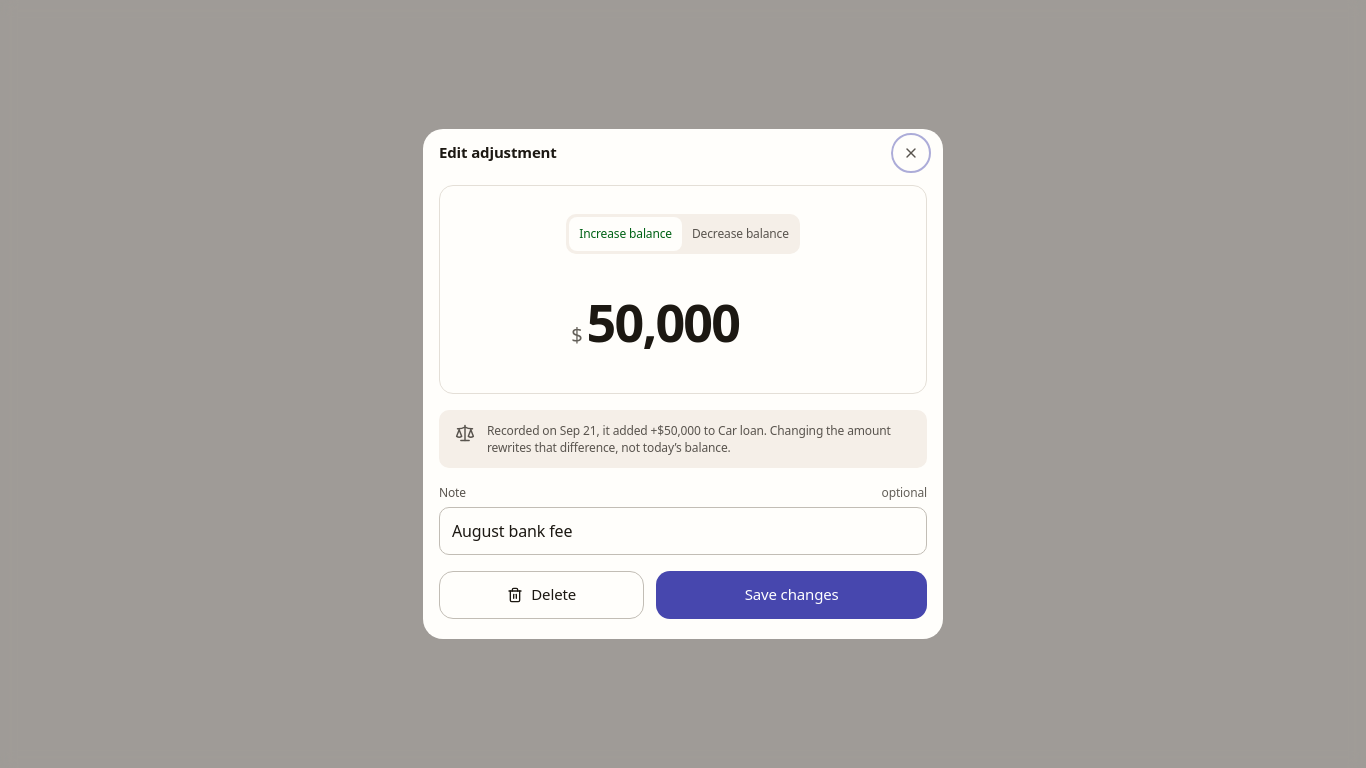
Test: AdjustBalanceSheet, editing one › refuses to push a loan past zero from the editing sheet
Expected: the text "Recorded on" is shown, [487, 422, 891, 456]
Clear the field named "Amount" at (691, 321), box [586, 286, 795, 357]
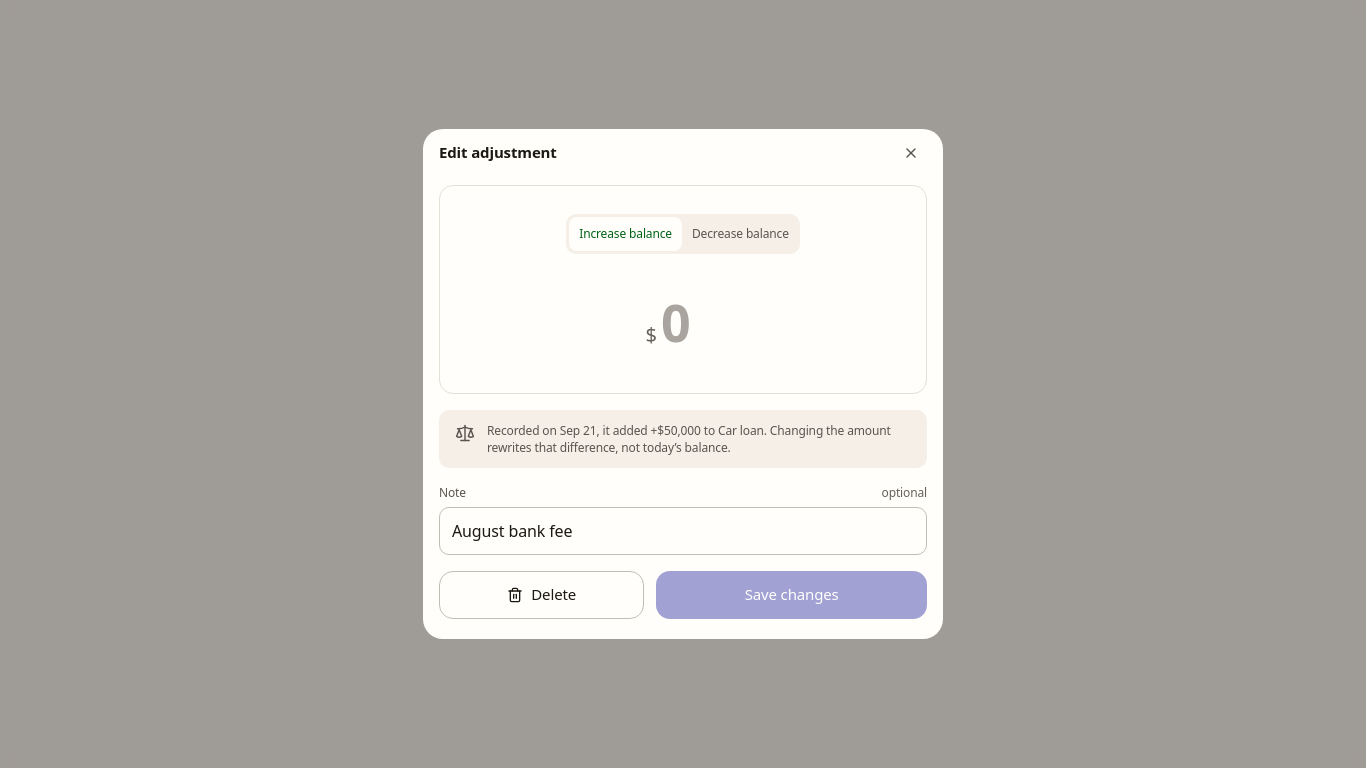
Type "200000" into the field named "Amount" at (691, 321), box [661, 286, 720, 357]
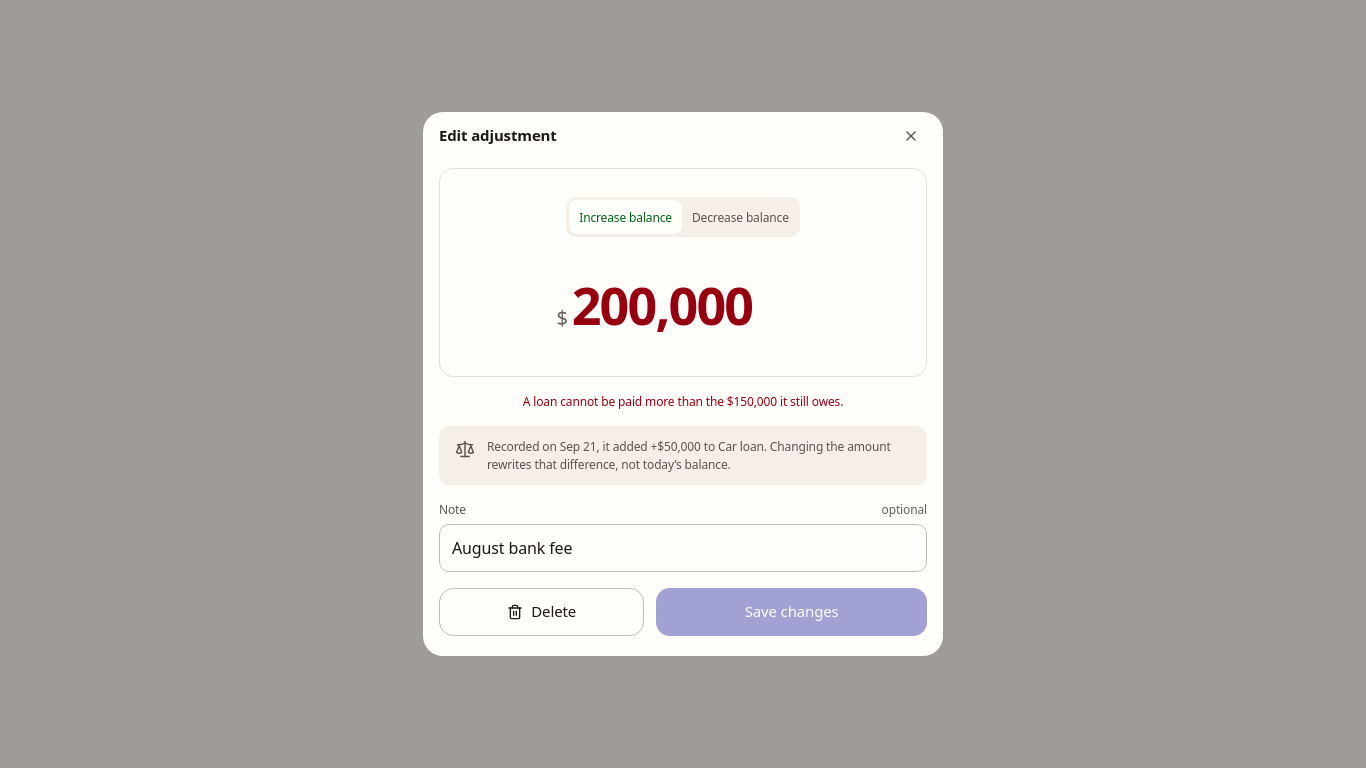
Expected: the 2nd button named "Save changes" is disabled, [656, 588, 927, 636]
Expected: the text "A loan cannot be paid more than the $150,000 it still owes." is shown, [523, 393, 843, 410]
Clear the field named "Amount" at (691, 305), box [572, 269, 810, 340]
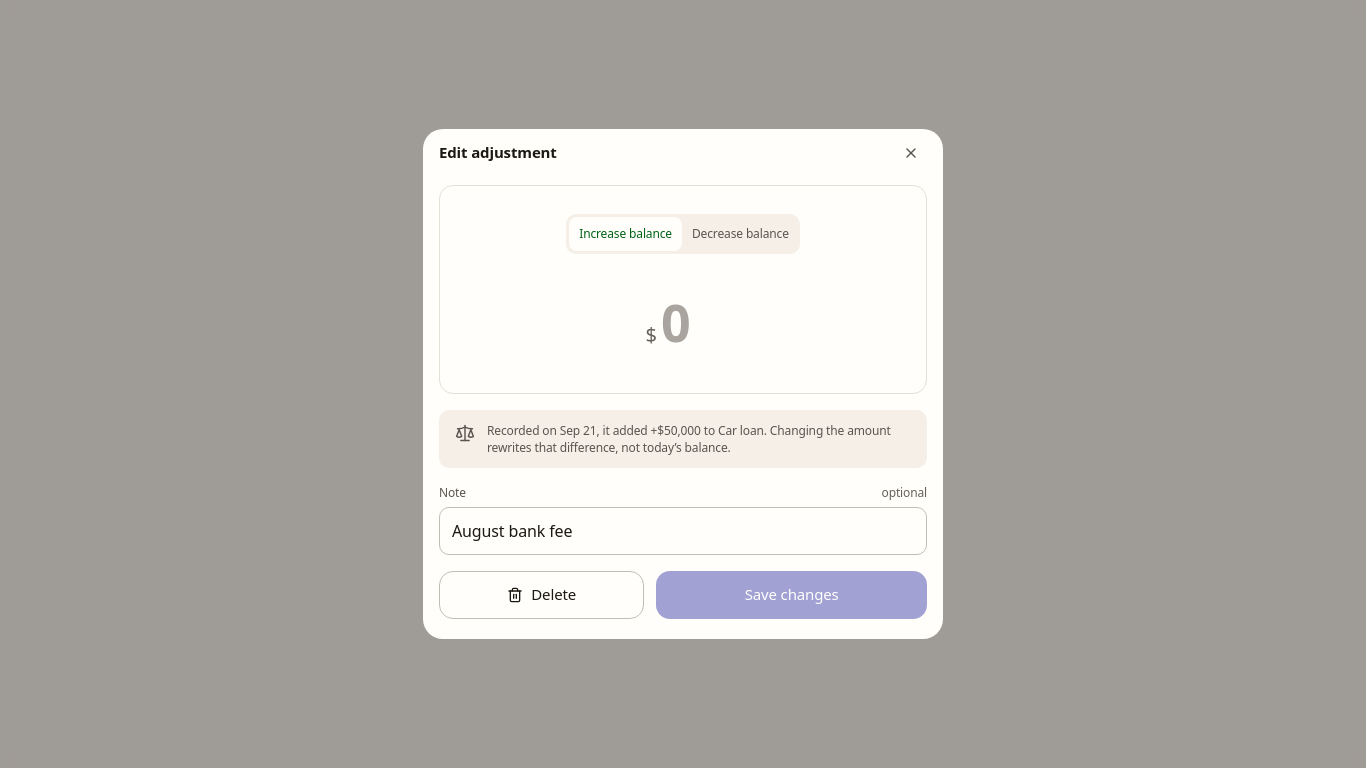
Type "150000" into the field named "Amount" at (691, 321), box [661, 286, 720, 357]
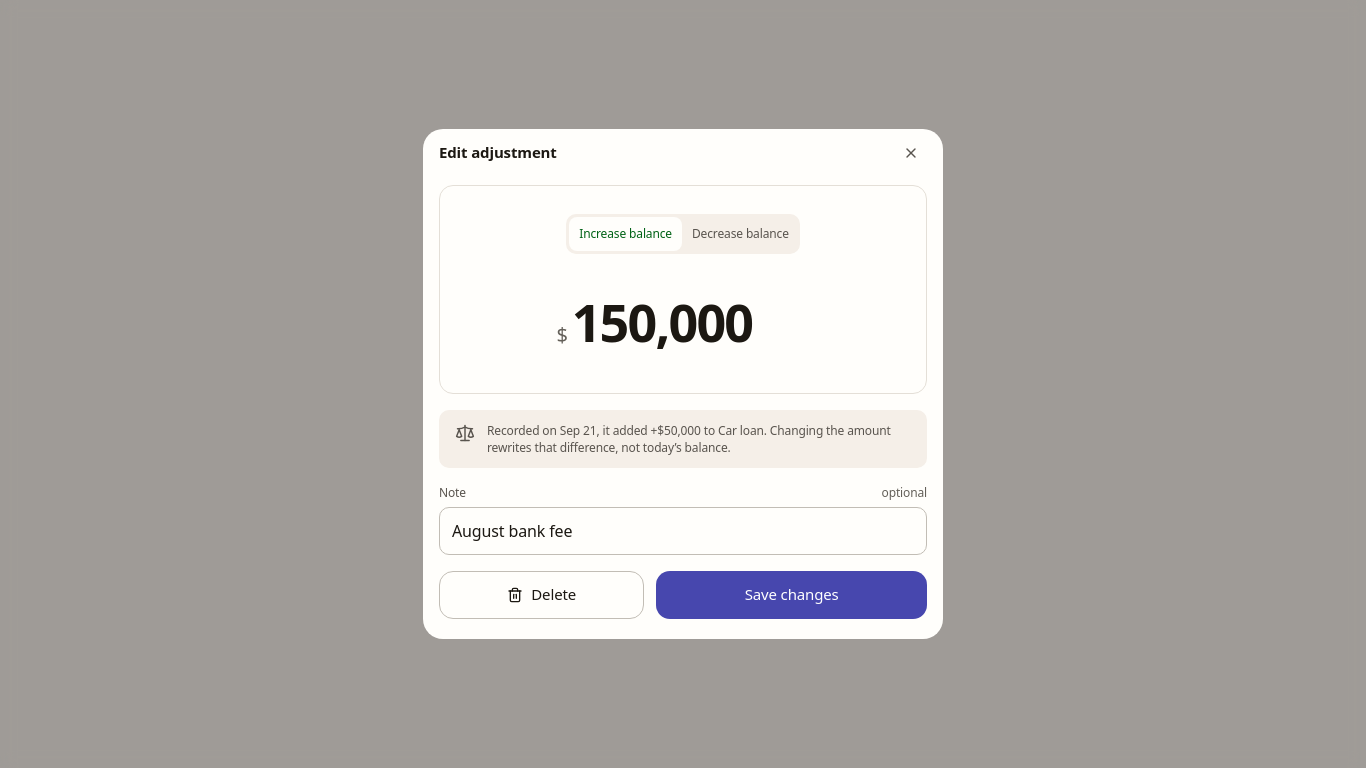
Expected: the text "cannot be paid more than" is not shown
Expected: the 2nd button named "Save changes" is enabled, [656, 571, 927, 619]
